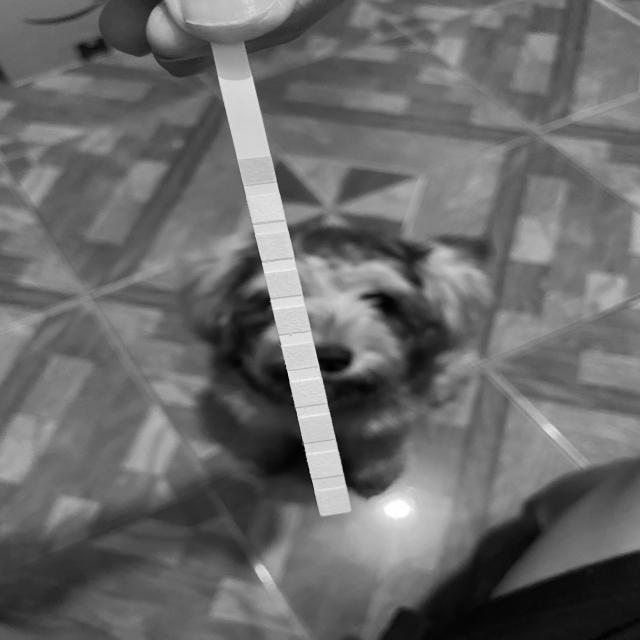Bilirubin: (254, 198, 280, 220)
Blood: (280, 310, 305, 331)
Glucose: (246, 160, 271, 182)
Ketone: (264, 237, 291, 259)
Leukocytes: (322, 491, 346, 511)
Nitrite: (314, 456, 338, 475)
Protein: (296, 382, 321, 404)
SpGravity: (271, 273, 298, 295)
Urobilinogen: (304, 418, 330, 439)
background: (0, 0, 640, 640)
pH: (288, 348, 313, 367)
strip: (214, 50, 351, 516)
